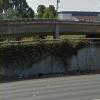Bridge: (4, 9, 99, 41)
